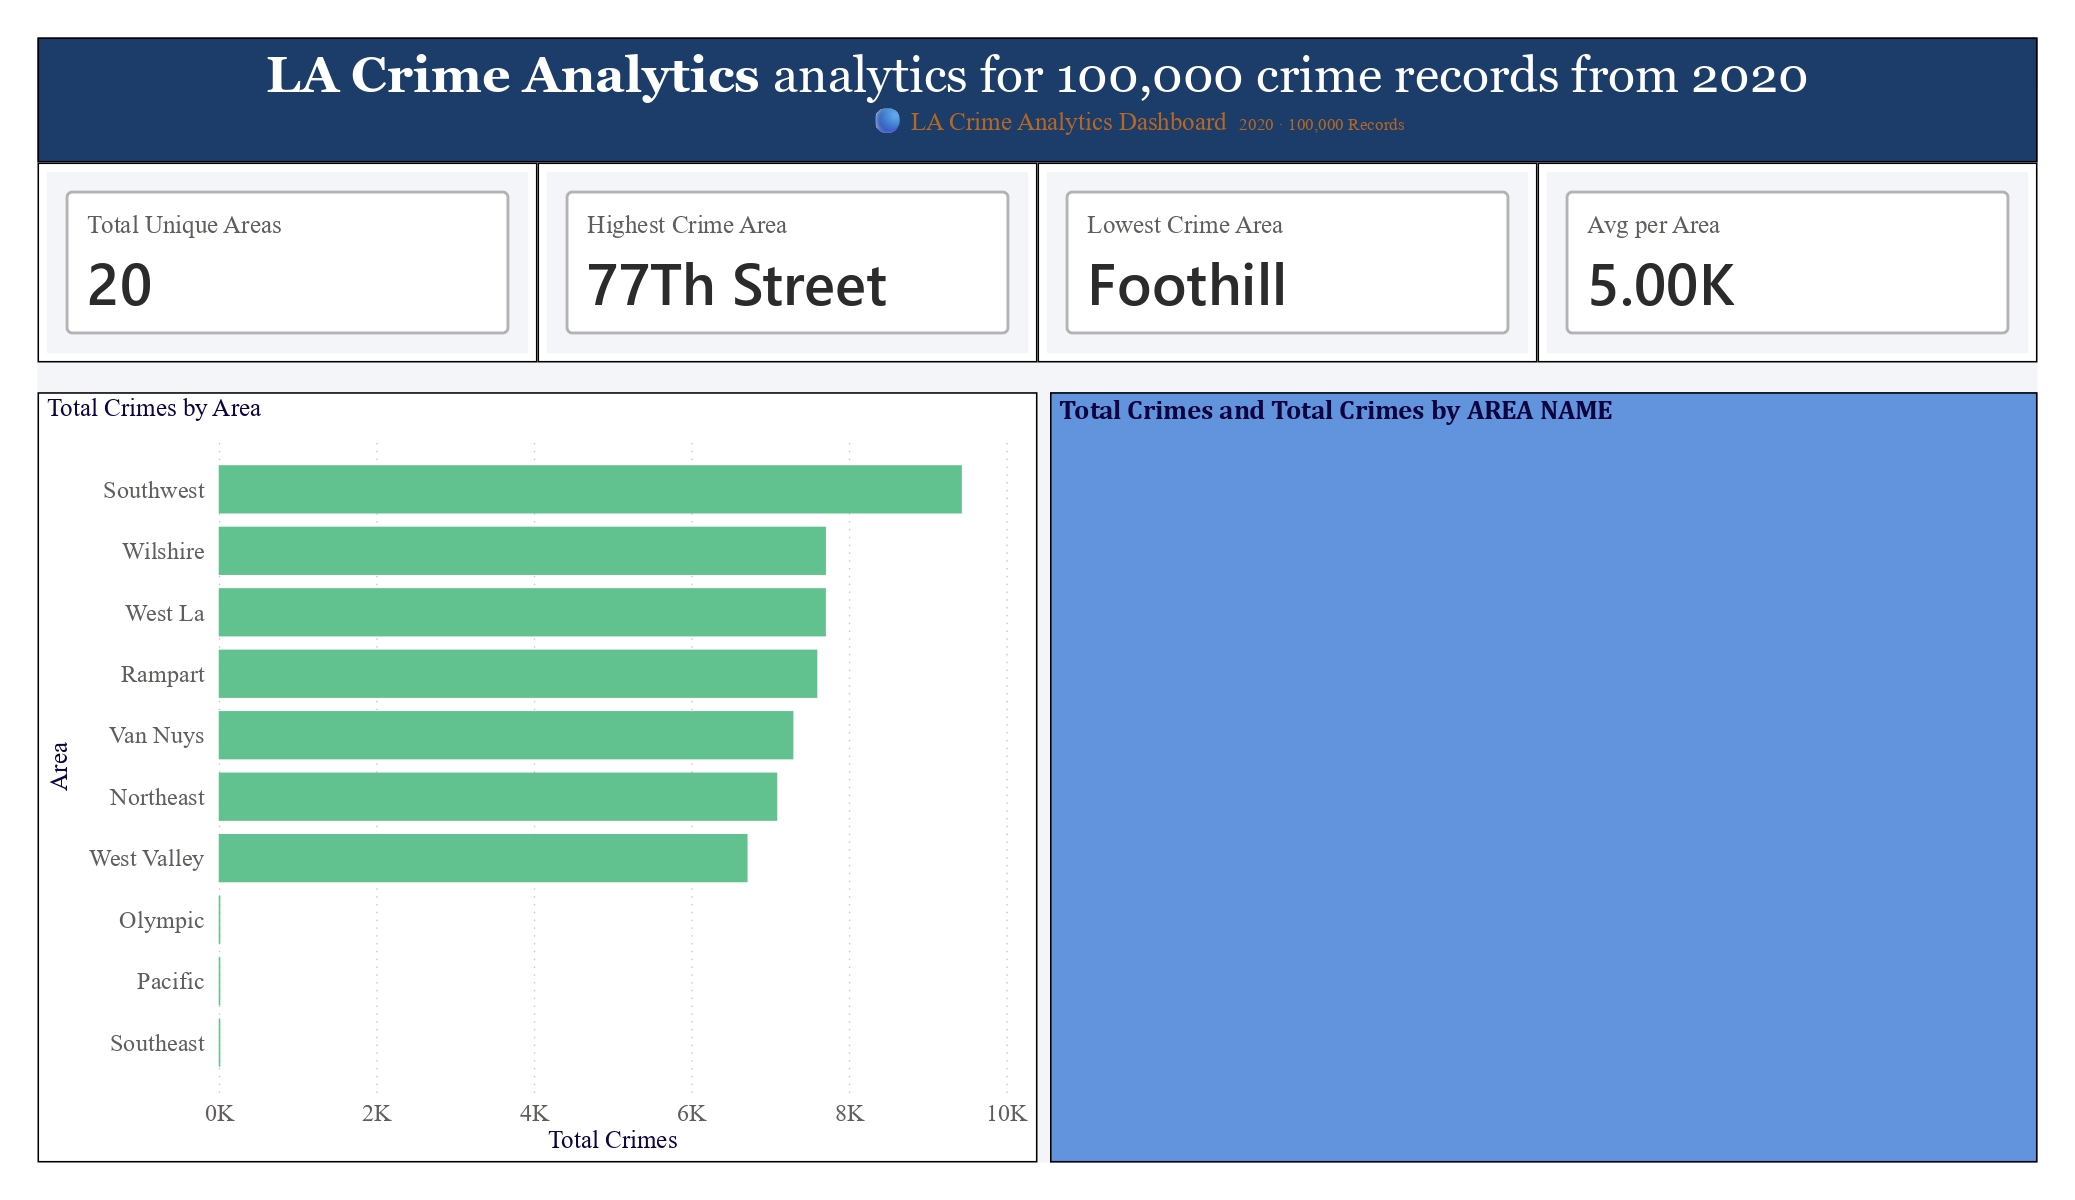

The page's visual inventory and layout, read from the dashboard file:
{"tool":"powerbi","page":{"name":"Area Analysis","canvas":[1280,720],"ordinal":1},"visuals":[{"type":"clusteredBarChart","title":"Total Crimes by Area","fields":{"Category":["Crime Data.AREA NAME"],"Y":["CORE_KPI_MEASURES.Total Crimes"]},"box":[0,226.6,640,493.1],"z":0},{"type":"textbox","box":[0,0,1280,80],"z":1000},{"type":"cardVisual","fields":{"Data":["CORE_KPI_MEASURES.Total Unique Areas"]},"box":[0,79.8,320,128.4],"z":2000},{"type":"cardVisual","fields":{"Data":["AREA_OR_GEOGRAPHIC_MEASURES.Lowest Crime Area","select"]},"box":[640,80,320,128],"z":3000},{"type":"cardVisual","fields":{"Data":["AREA_OR_GEOGRAPHIC_MEASURES.Avg per Area"]},"box":[960,80,320,128],"z":4000},{"type":"cardVisual","fields":{"Data":["AREA_OR_GEOGRAPHIC_MEASURES.Highest Crime Area"]},"box":[320,80,320,128],"z":5000},{"type":"map","title":"Total Crimes and Total Crimes by AREA NAME","fields":{"Category":["Crime Data.AREA NAME"],"Y":["Avg(Crime Data.LAT)"],"X":["Avg(Crime Data.LON)"],"Size":["CORE_KPI_MEASURES.Total Crimes"]},"box":[647.8,226.6,632.2,493.1],"z":6000}]}

Visuals, with their boxes on the page's 1280x720 design canvas (x1, y1, x2, y2). These are canvas units, not pixel positions in the 2075x1200 screenshot, which may show the page scaled, cropped or inside an application window:
"Total Crimes by Area" clusteredBarChart: x1=0, y1=227, x2=640, y2=720
textbox: x1=0, y1=0, x2=1280, y2=80
cardVisual - CORE_KPI_MEASURES.Total Unique Areas: x1=0, y1=80, x2=320, y2=208
cardVisual - AREA_OR_GEOGRAPHIC_MEASURES.Lowest Crime Area x select: x1=640, y1=80, x2=960, y2=208
cardVisual - AREA_OR_GEOGRAPHIC_MEASURES.Avg per Area: x1=960, y1=80, x2=1280, y2=208
cardVisual - AREA_OR_GEOGRAPHIC_MEASURES.Highest Crime Area: x1=320, y1=80, x2=640, y2=208
"Total Crimes and Total Crimes by AREA NAME" map: x1=648, y1=227, x2=1280, y2=720
